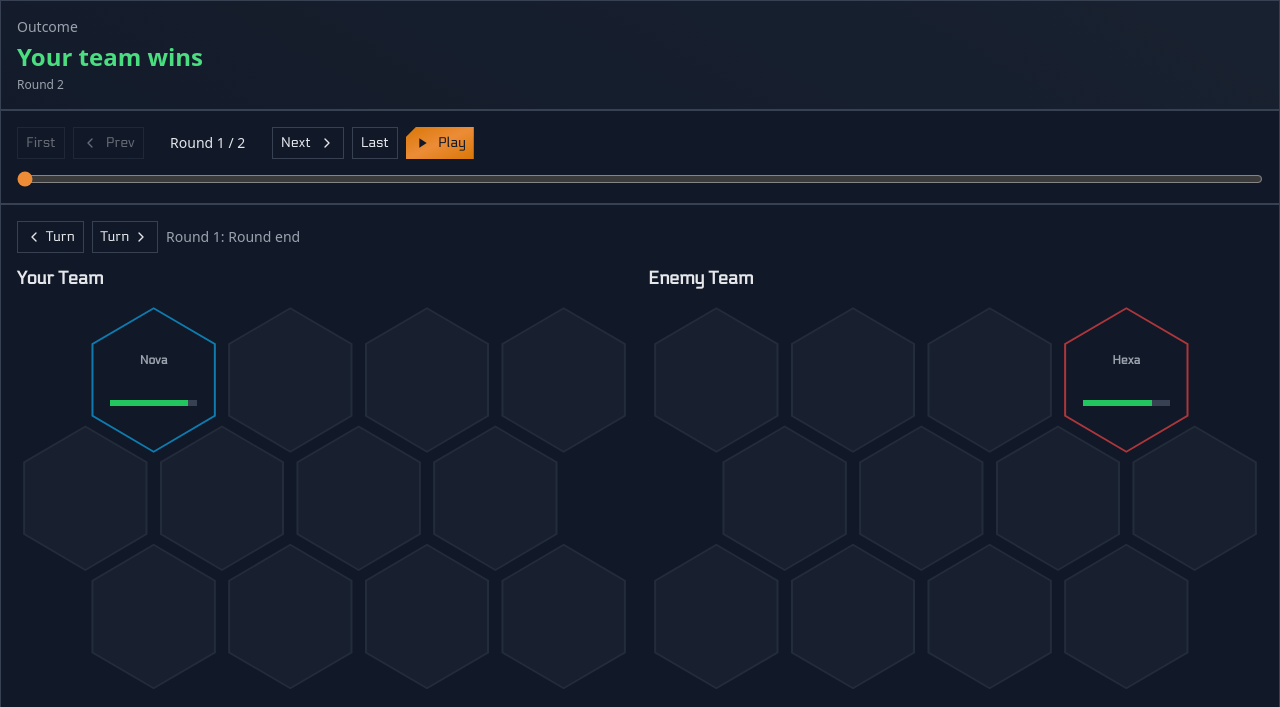
it: BattlePlayback turn by turn › steps turns within a round and across into the next
expect the text "Round 1: Round end" is shown: met, box [166,227,300,247]
expect the button with aria-label "Hexa at T1, 80% HP" is shown: met, box [1064,307,1188,453]
Step 1. Click the button with aria-label "Previous turn" → coordinates (50, 237), box [17,221,84,253]
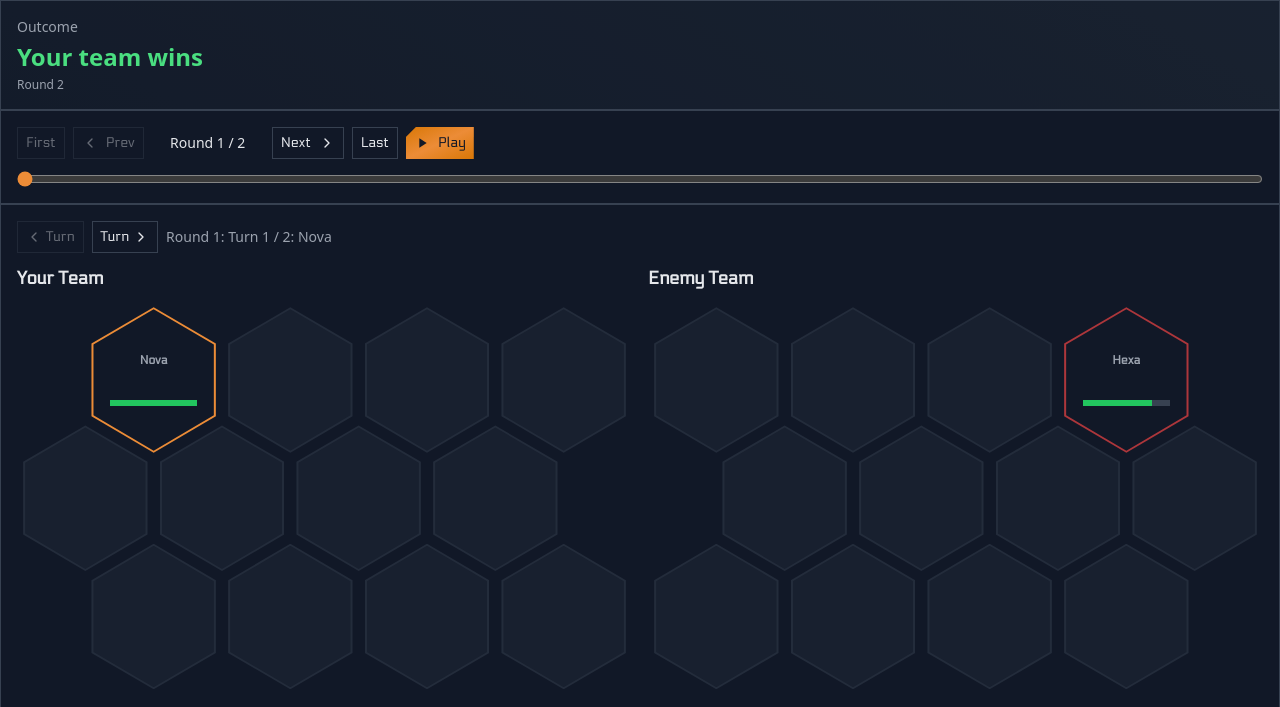
expect the button with aria-label "Hexa at T1, 80% HP" is shown: met, box [1064,307,1188,453]
expect the text "Round 1: Turn 1 / 2: Nova" is shown: met, box [166,227,332,247]
expect the button with aria-label "Nova at T1, 100% HP" is shown: met, box [92,307,216,453]
Step 2. Click the button with aria-label "Next turn" → coordinates (125, 237), box [92,221,158,253]
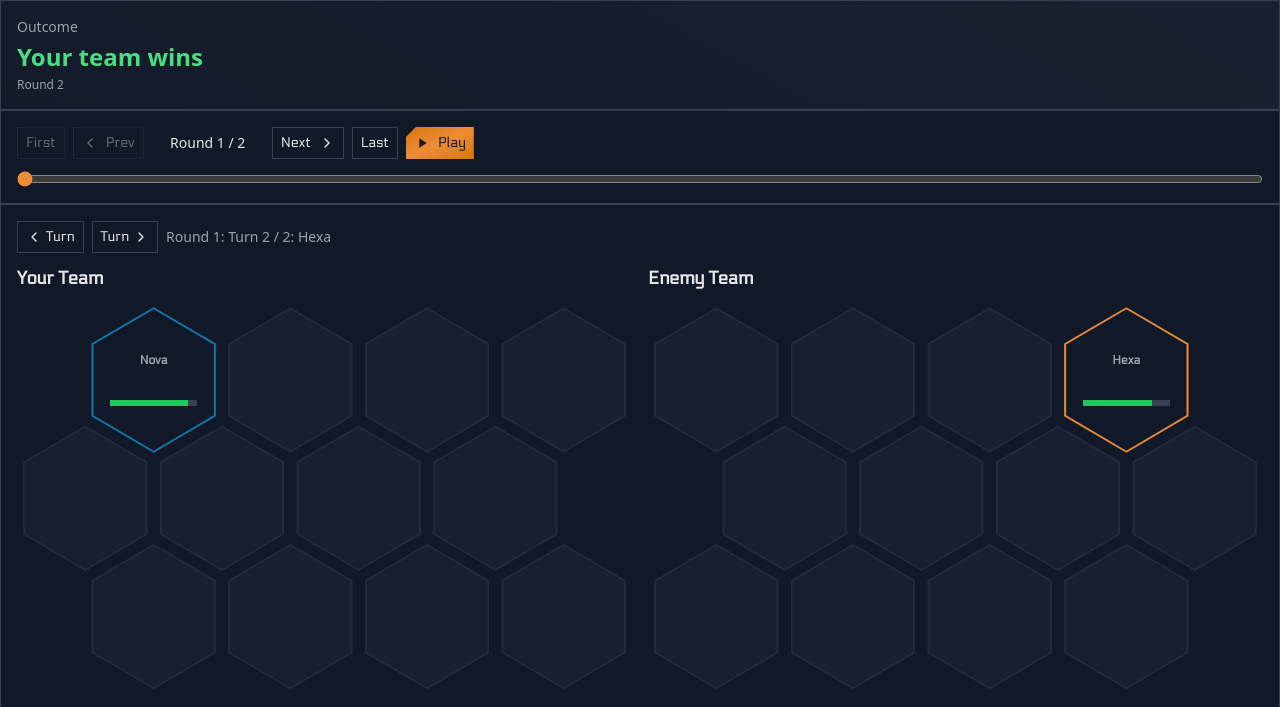
Step 3. Click the button with aria-label "Next turn" → coordinates (125, 237), box [92,221,158,253]
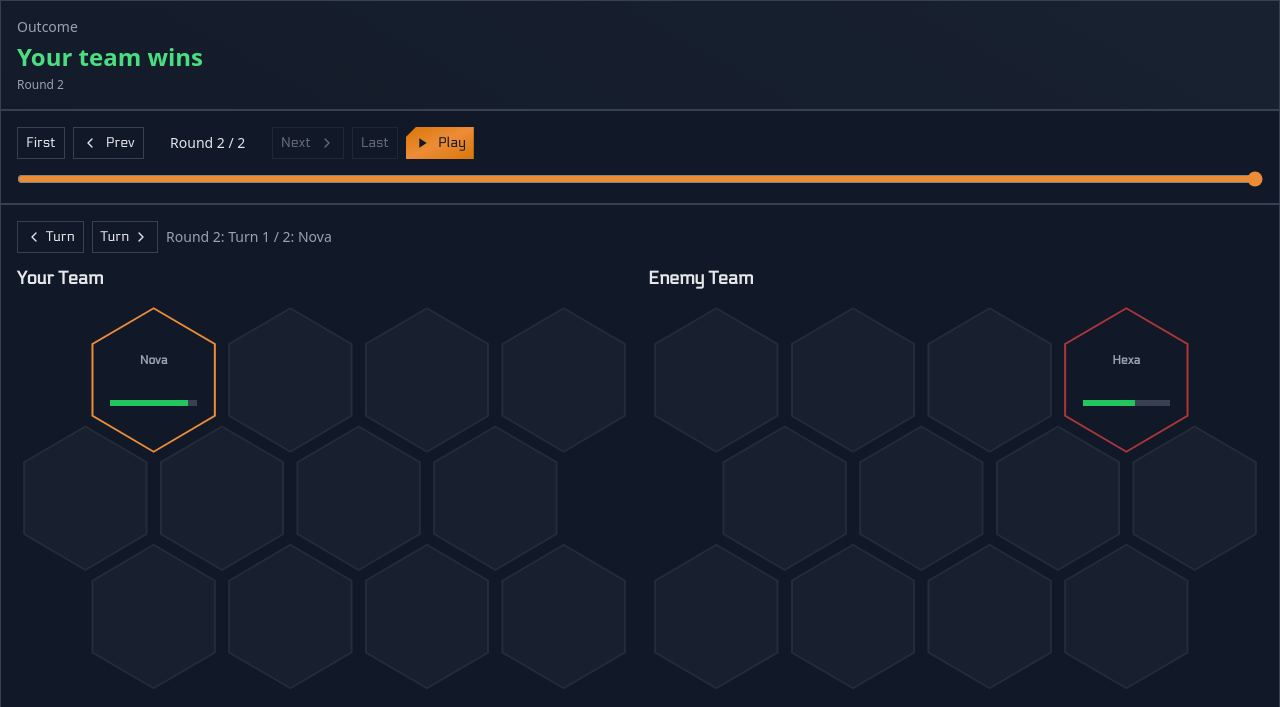
expect the text "Round 2: Turn 1 / 2: Nova" is shown: met, box [166,227,332,247]
expect the text "Round 2 / 2" is shown: met, box [170,133,245,152]
expect the button with aria-label "Hexa at T1, 60% HP" is shown: met, box [1064,307,1188,453]
